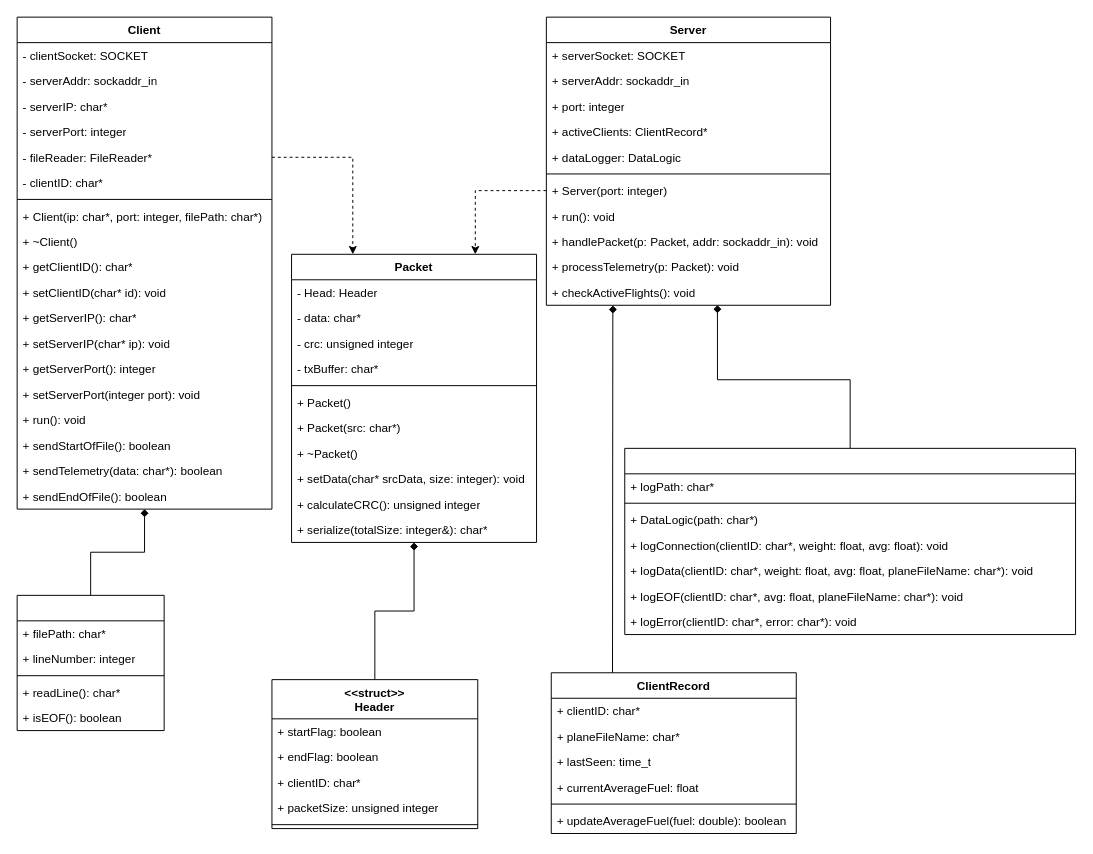
Image size: 1093x854. Some labels were removed from this diagram. Each missing label, with the box of its shape:
DataLogging: (624, 447, 1076, 635)
FileReader: (16, 594, 164, 731)
